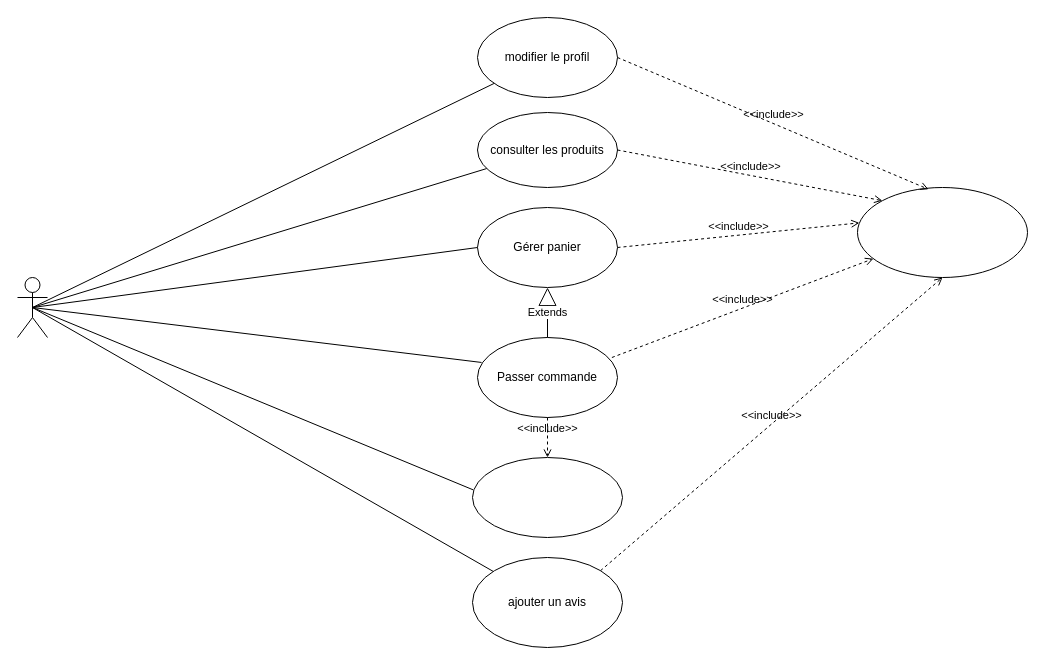
Image size: 1045x665. Some labels were removed from this diagram. The shapes that lost their labels are listed below. From the top down, each one's centre as x and y in pixels, then its label:
[942,232]: s'authentifier
[32,307]: client
[547,497]: paiment en ligne
